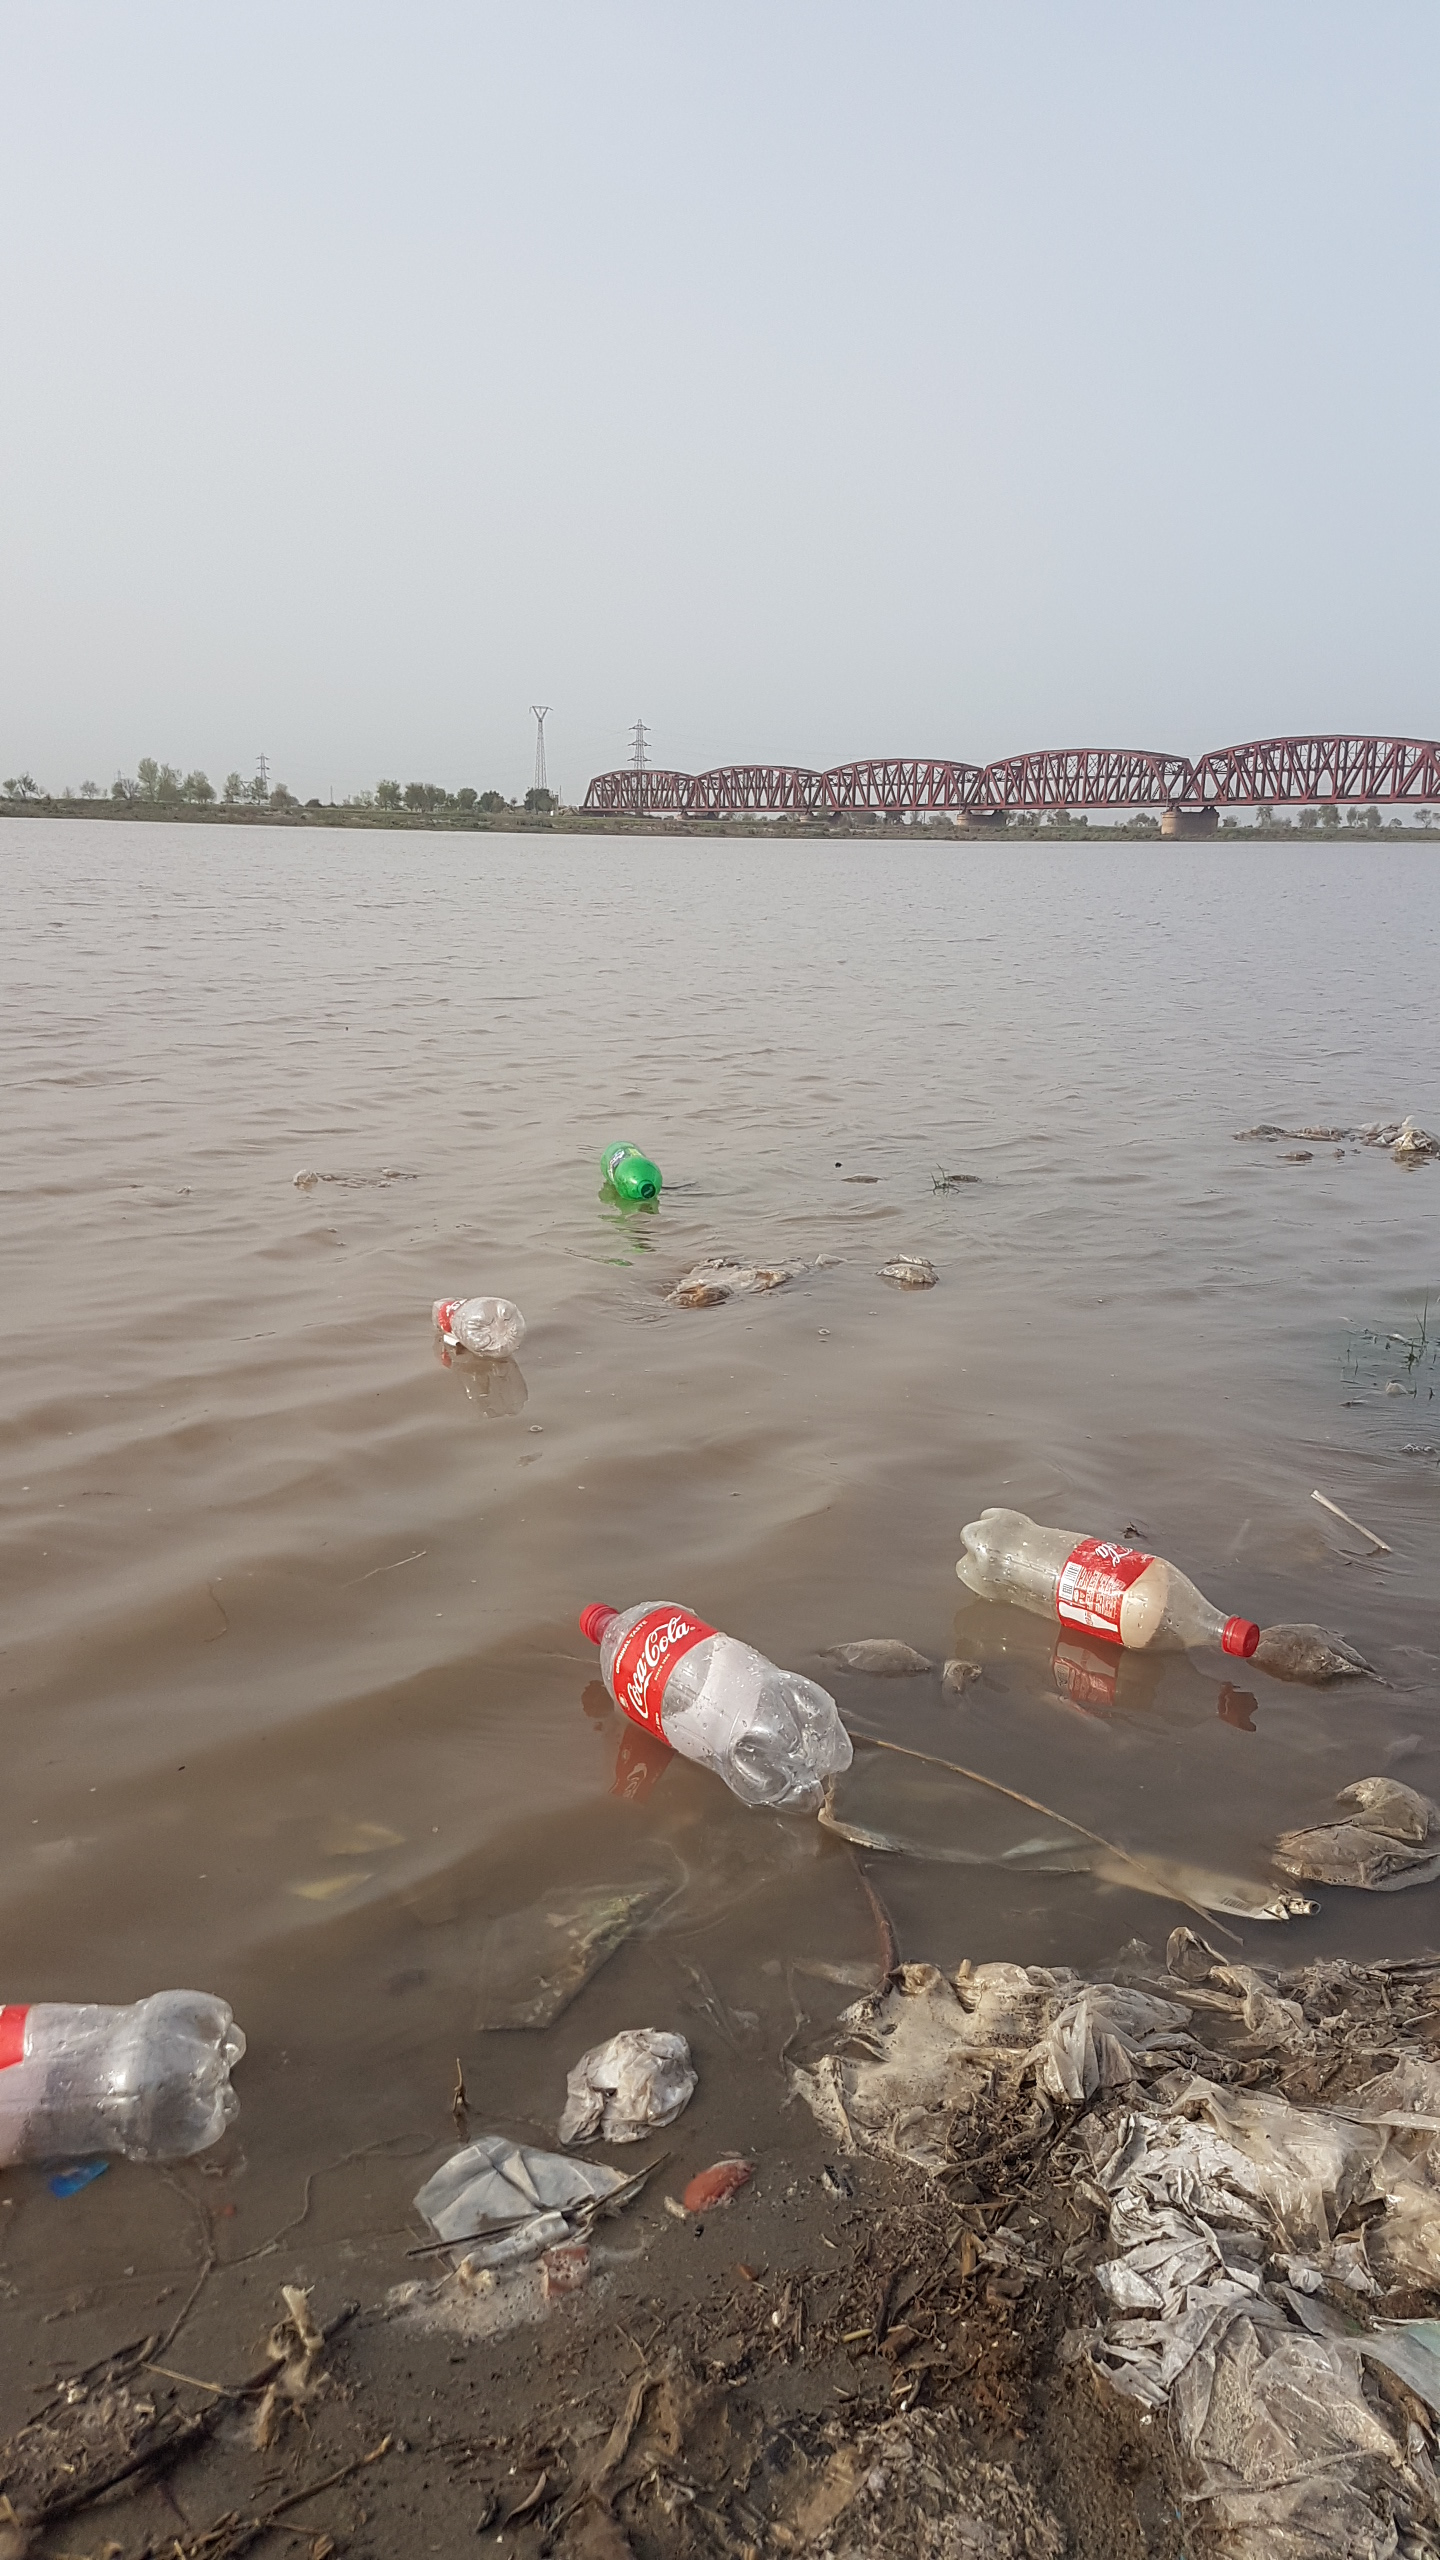Plastic Bottle: (578, 1598, 855, 1809), (956, 1507, 1261, 1658), (2, 1990, 246, 2170), (433, 1296, 526, 1357), (601, 1139, 663, 1199)
